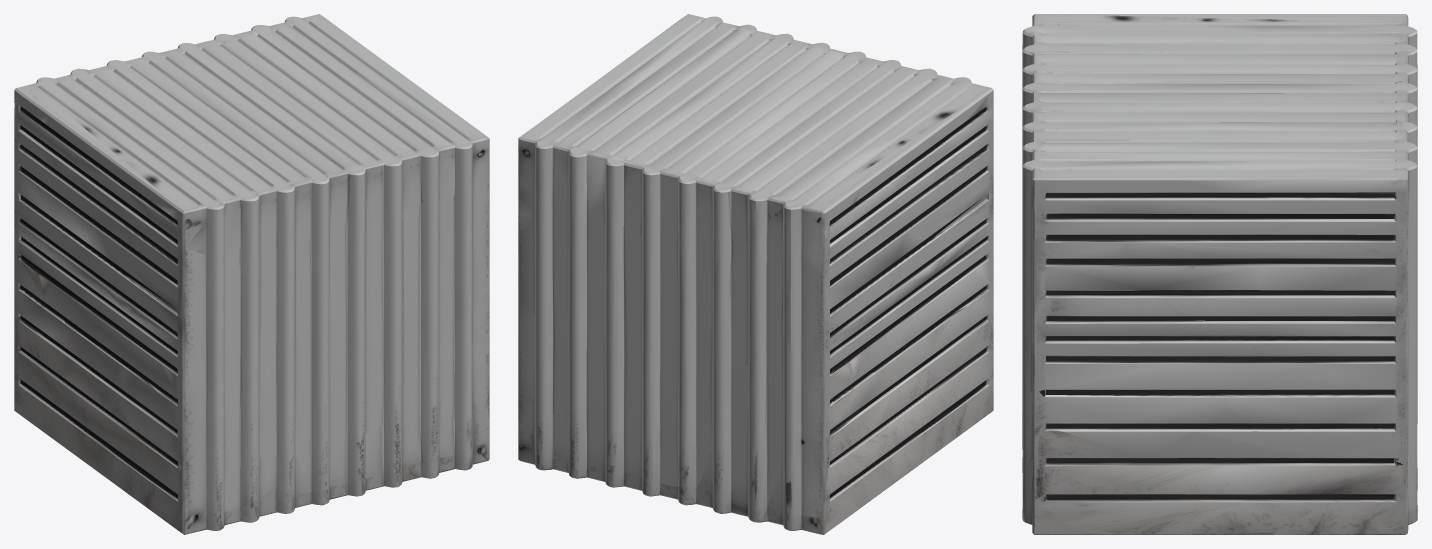
The model's file is Block.fbx.
The picture shows the model from 3 angles, left to right: view 1: azimuth 30°, elevation 25°; view 2: azimuth 150°, elevation 25°; view 3: azimuth 270°, elevation 25°; orthographic projection. The views are drawn at different scales.
Visible parts, largest first — view 1: texture_pbr_v128; view 2: texture_pbr_v128; view 3: texture_pbr_v128.
Part boxes in pixels (box(x1,y1,x2,y2)): texture_pbr_v128: box(14, 14, 489, 534); texture_pbr_v128: box(518, 14, 993, 534); texture_pbr_v128: box(1022, 14, 1417, 534).
Bounding box in the file's own units: 49.3 × 49.63 × 49.74.
